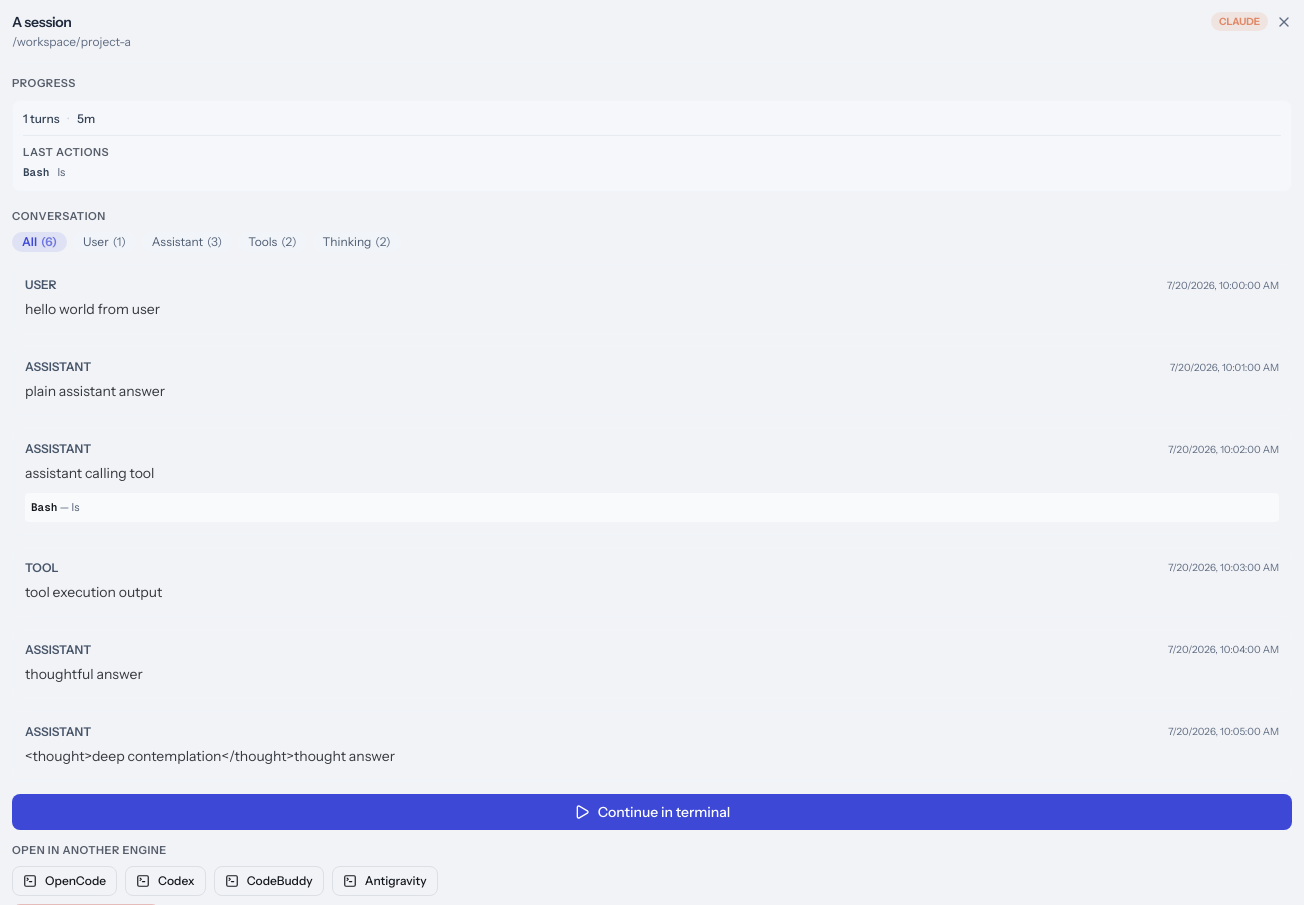
Test: SessionDetailPanel message filter › renders filter chips with counts and filters messages on click
The image size is (1304, 905).
Expected: the button "All (6)" is shown, [12,232,67,252]
Expected: the button "Assistant (3)" is shown, [142,232,232,252]
Step 1. Click the button "User (1)" → click(104, 242), box [73,232,136,252]
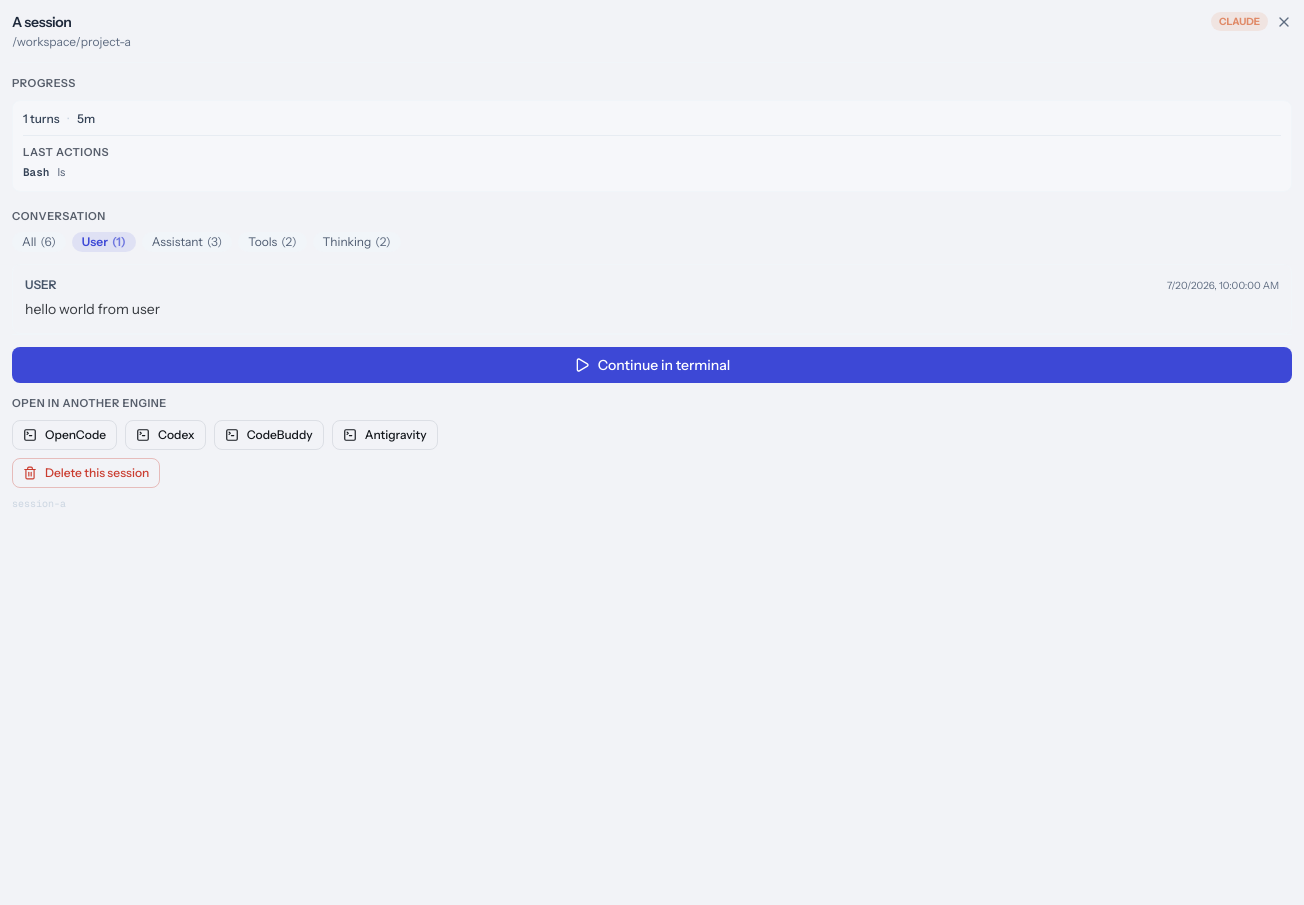
Expected: the text "hello world from user" is shown, [25,300,160,318]
Now the text "plain assistant answer" is gone
Now the text "assistant calling tool" is gone
Step 2. Click the button "Assistant (3)" → click(187, 242), box [142,232,232,252]
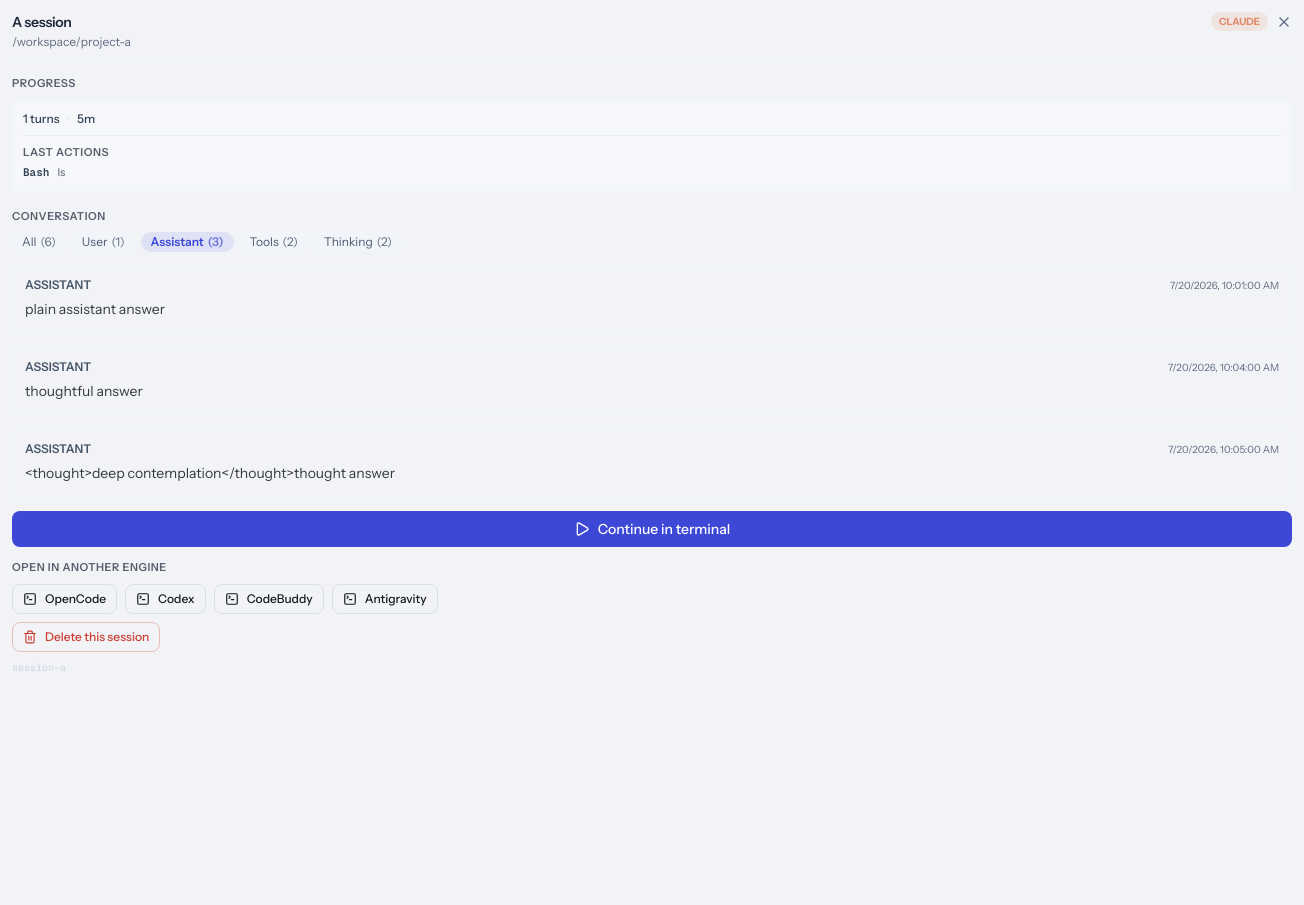
Expected: the text "assistant calling tool" is not shown
Now the text "hello world from user" is gone
Now the text "plain assistant answer" is shown, box [25,300,165,318]
Step 3. Click the button "Tools (2)" → click(274, 242), box [240,232,308,252]
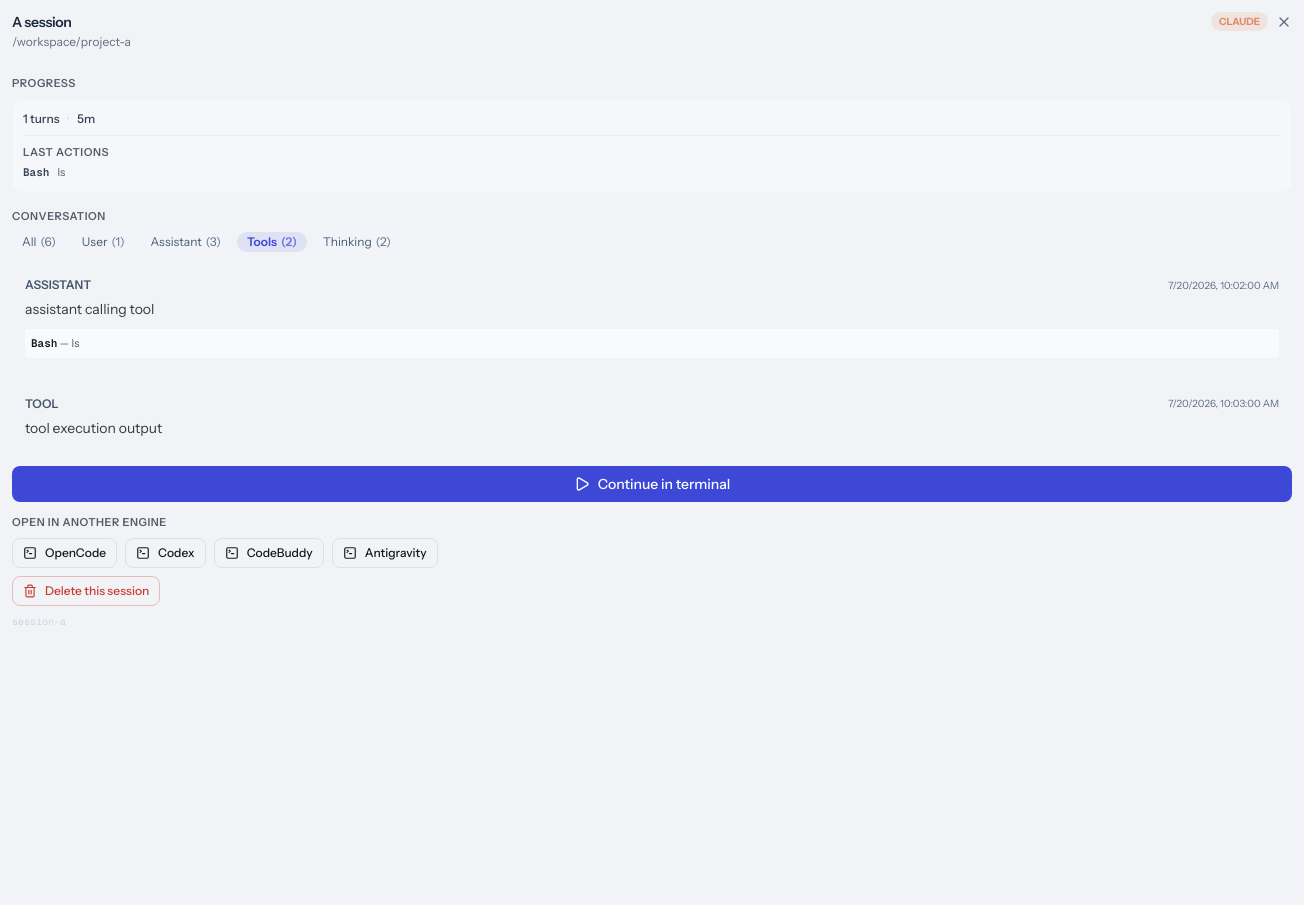
Now the text "plain assistant answer" is gone
Now the text "assistant calling tool" is shown, box [25,300,154,318]
Now the text "tool execution output" is shown, box [25,418,162,436]
Step 4. Click the button "Thinking (2)" → click(357, 242), box [313,232,401,252]
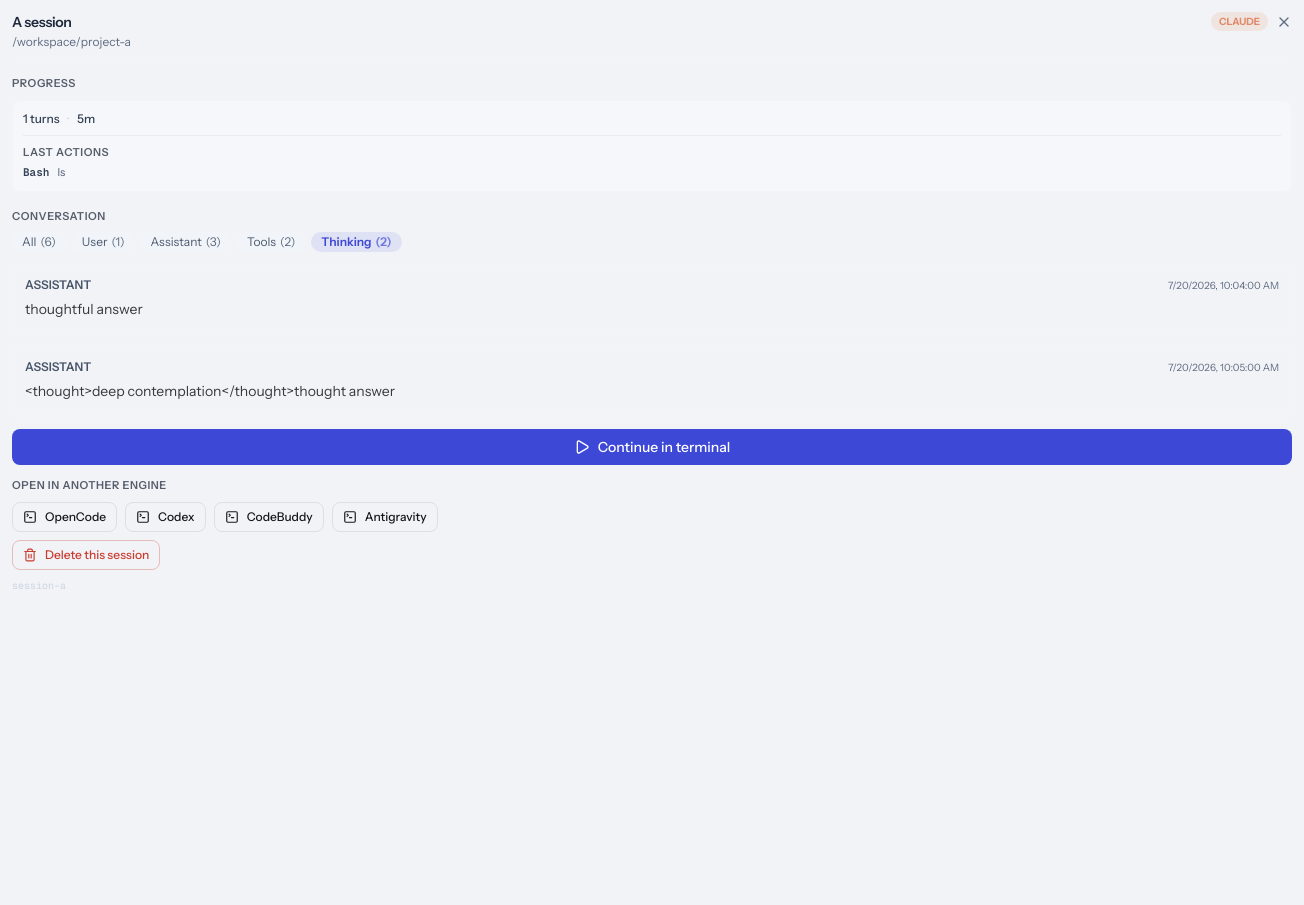
Expected: the text "hello world from user" is not shown
Now the text "thoughtful answer" is shown, box [25,300,143,318]
Now the text "<thought>deep contemplation</thought>thought answer" is shown, box [25,382,395,400]
